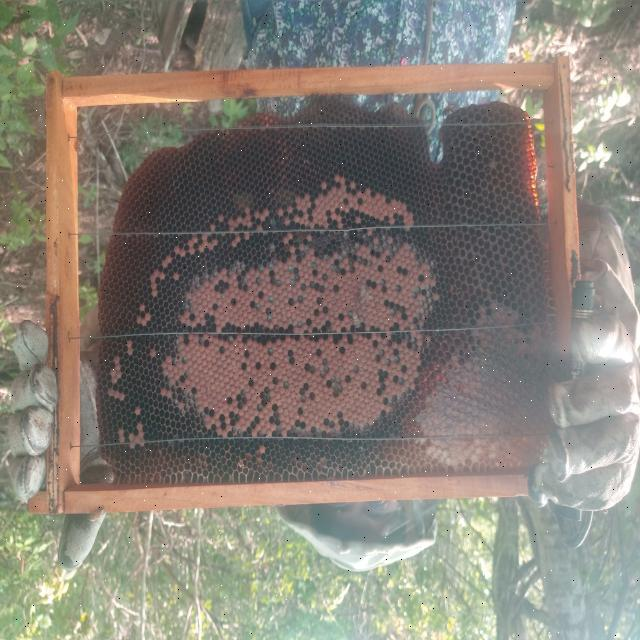cria: (105, 177, 457, 452)
marco: (66, 90, 557, 486)
